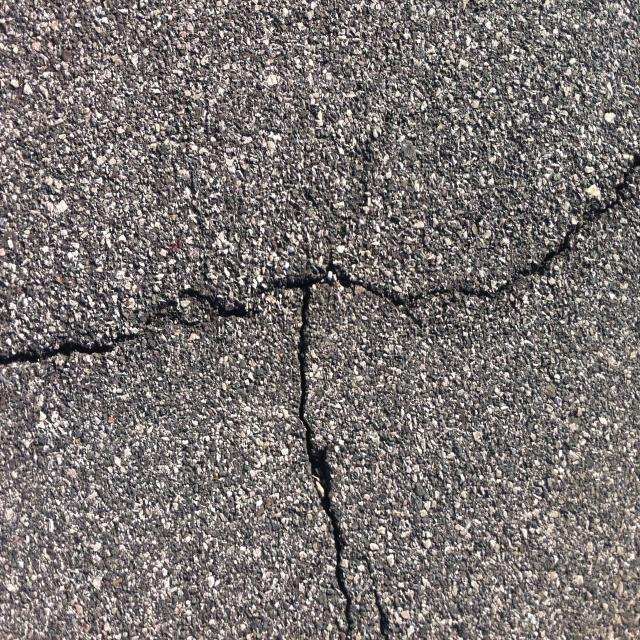Crack: (0, 148, 640, 640), (367, 561, 391, 640)
